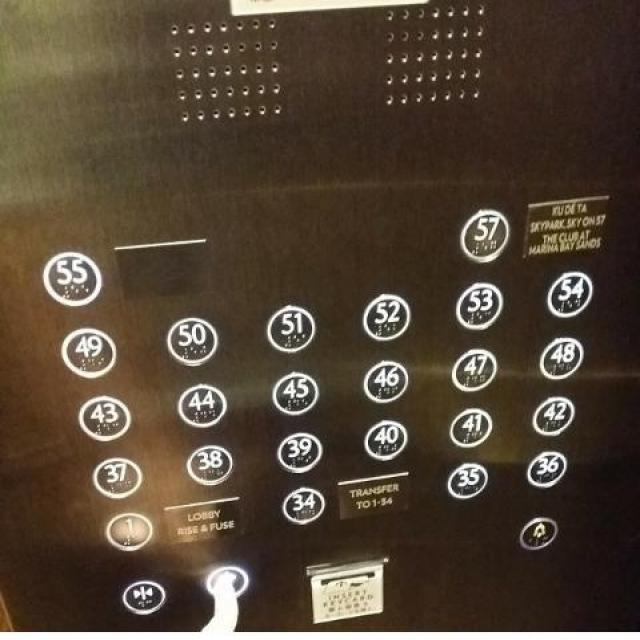1: (103, 508, 153, 551)
34: (278, 486, 322, 522)
35: (443, 462, 485, 498)
36: (524, 449, 565, 488)
37: (90, 453, 146, 497)
38: (183, 443, 232, 485)
39: (274, 430, 322, 470)
40: (361, 419, 407, 460)
41: (447, 406, 492, 446)
42: (528, 393, 575, 436)
43: (76, 393, 132, 440)
44: (176, 382, 227, 428)
45: (271, 370, 317, 414)
46: (360, 359, 408, 402)
47: (448, 346, 497, 393)
48: (536, 334, 581, 379)
49: (60, 326, 117, 378)
50: (164, 315, 217, 367)
51: (261, 304, 315, 352)
52: (360, 291, 411, 342)
53: (453, 280, 503, 330)
54: (546, 269, 594, 317)
55: (42, 249, 102, 308)
57: (460, 208, 508, 262)
alarm: (516, 513, 559, 550)
close: (120, 579, 167, 616)
